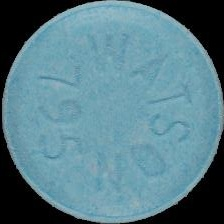43063-045: (0, 0, 224, 224)
